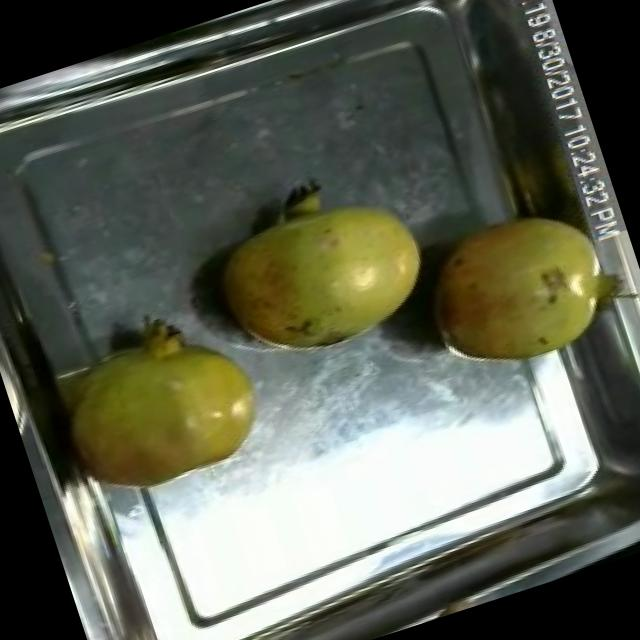fruit: (185, 152, 452, 386), (38, 285, 296, 520), (399, 181, 634, 392)
